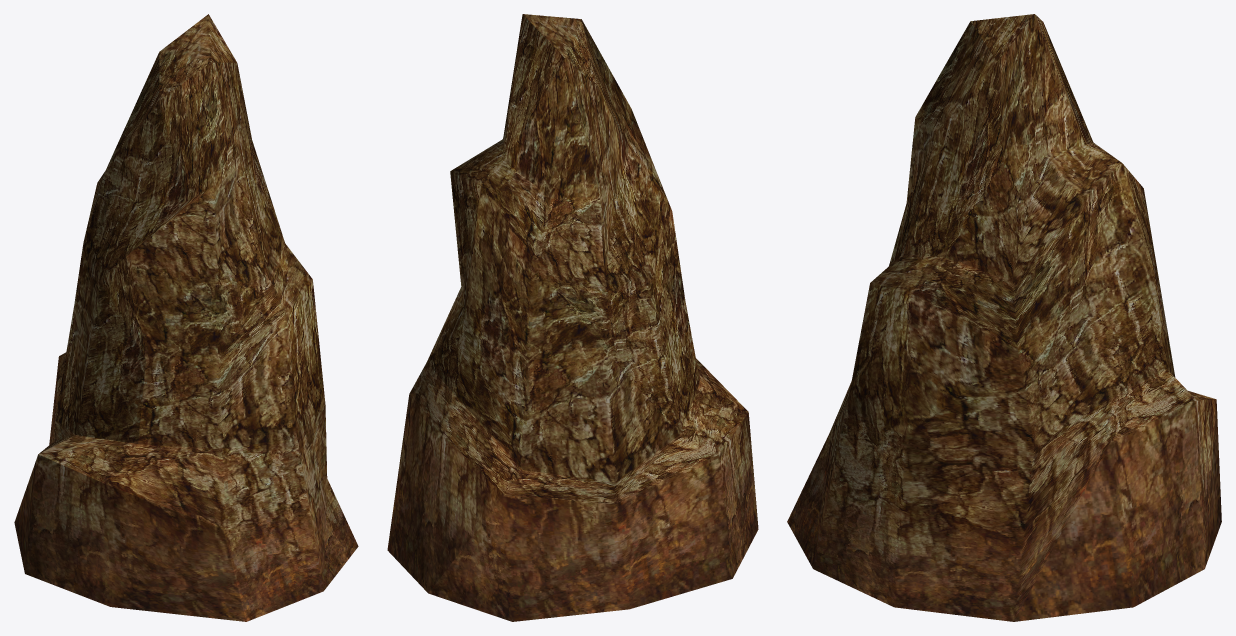
The model's file is hr_rock4.glb.
3 renders of one model, left to right at view 1: azimuth 30°, elevation 25°; view 2: azimuth 150°, elevation 25°; view 3: azimuth 270°, elevation 25°, orthographic. The views are drawn at different scales.
Visible parts, largest first — view 1: hr_rock4; view 2: hr_rock4; view 3: hr_rock4.
Boxes of the visible parts, <box> form: hr_rock4: <box>14,14,358,621</box>; hr_rock4: <box>387,14,758,621</box>; hr_rock4: <box>787,14,1221,621</box>.
Bounding box in the file's own units: 9.07 × 14.33 × 10.3.
Materials: 2 (2 with a texture image).
